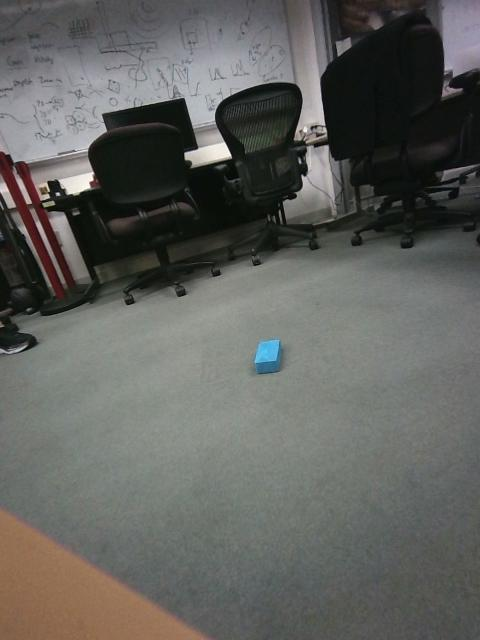block: (210, 341, 261, 378)
